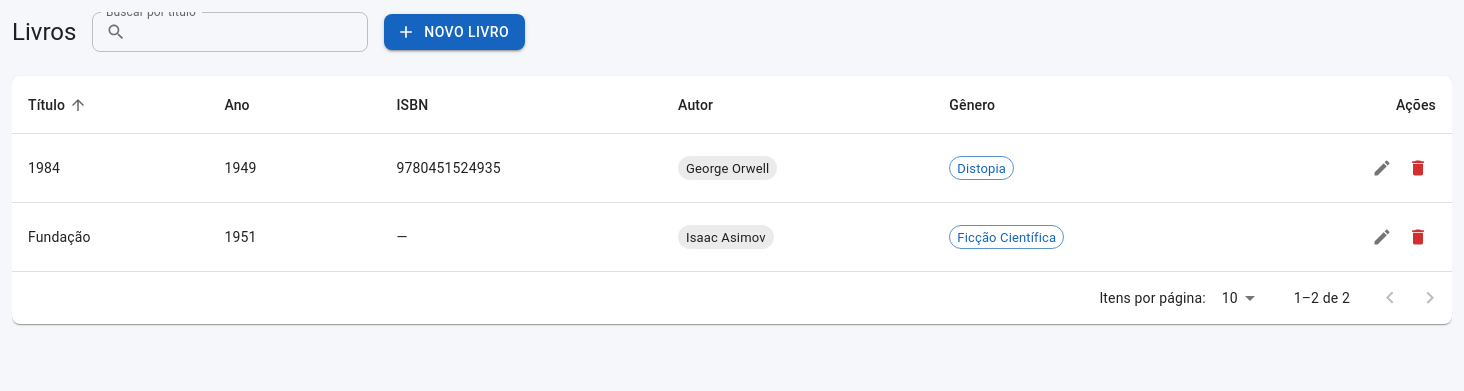
BooksPage › filters by author when its chip is clicked
Step 1. Click the button with aria-label "Filtrar pelo autor George Orwell" → point(728, 168), box x1=678 y1=156 x2=777 y2=180
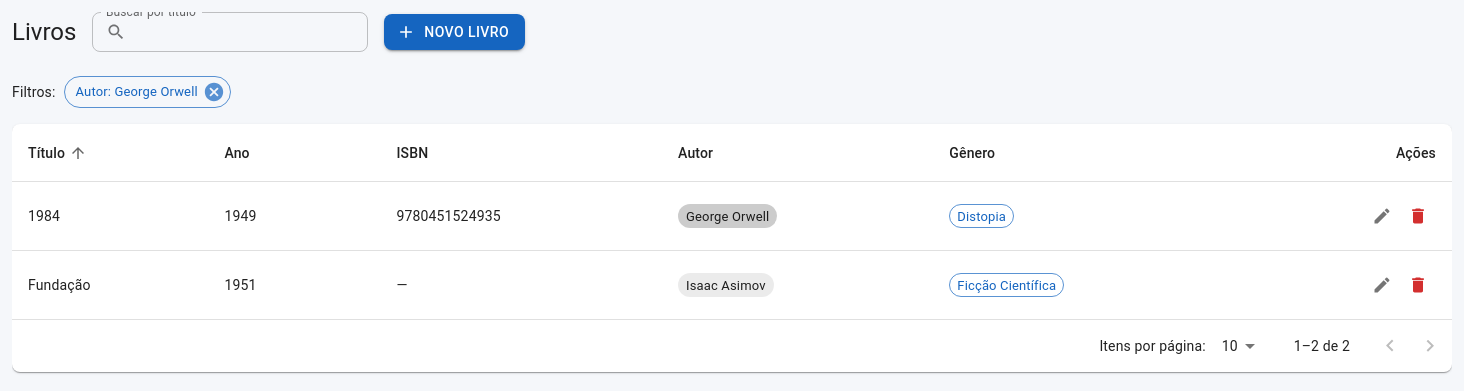
Now the text "Autor: George Orwell" is shown, box x1=76 y1=84 x2=198 y2=99
